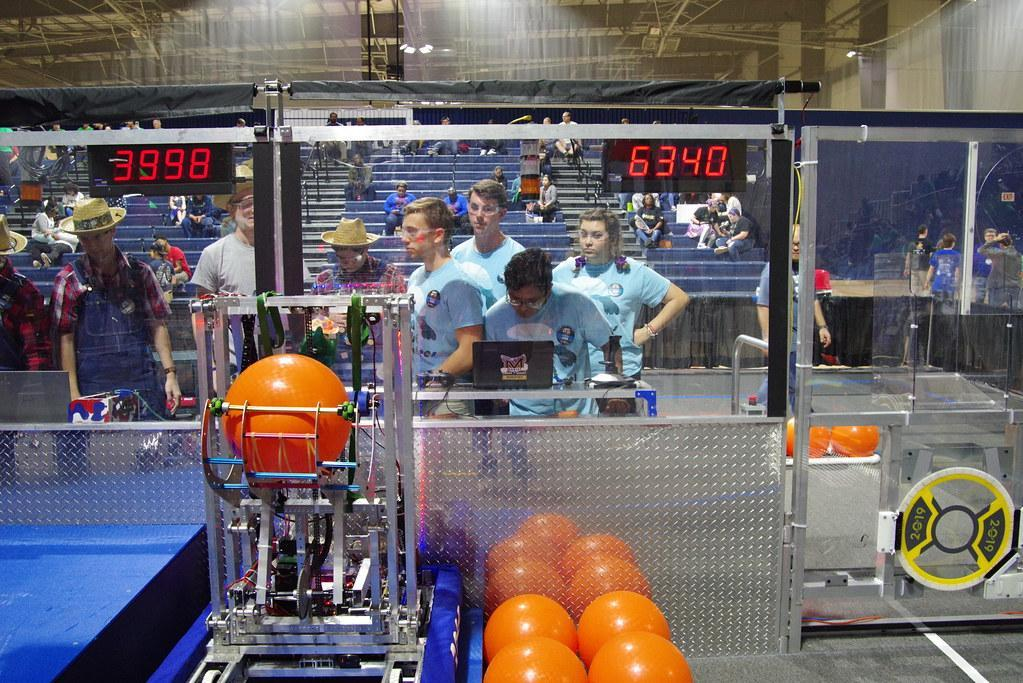robot: (132, 277, 472, 683)
